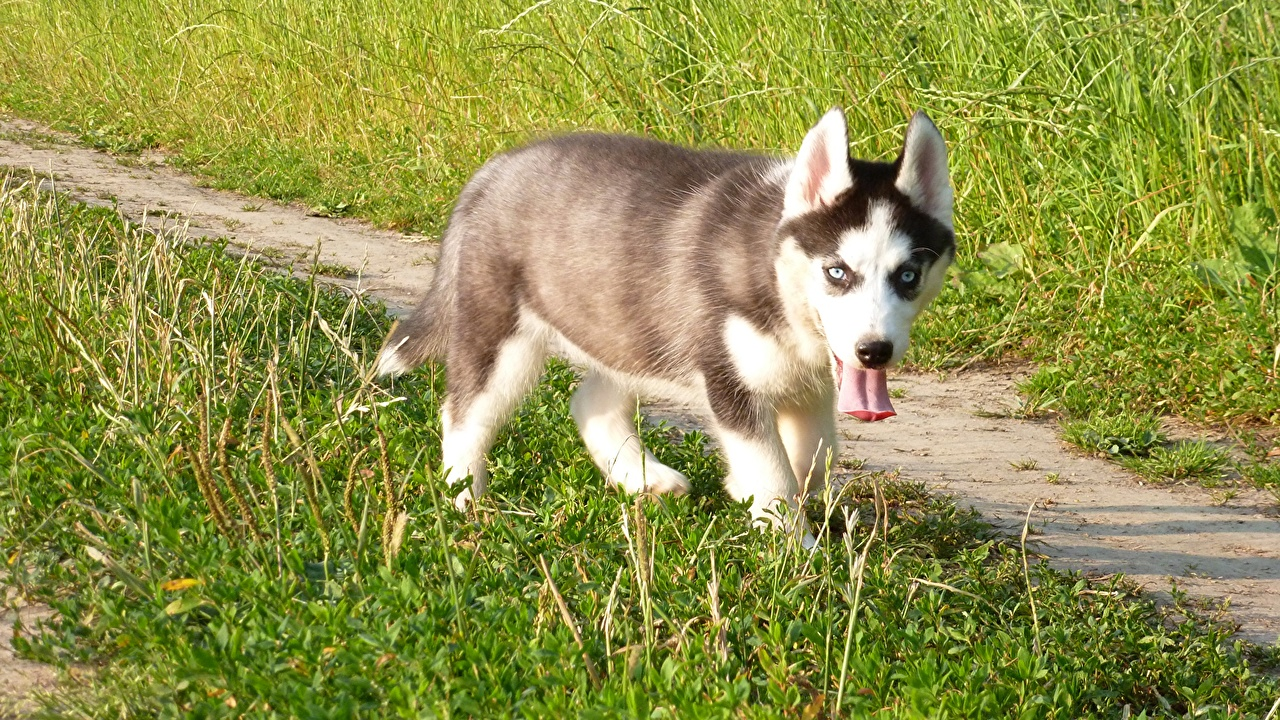husky: (384, 84, 975, 508)
